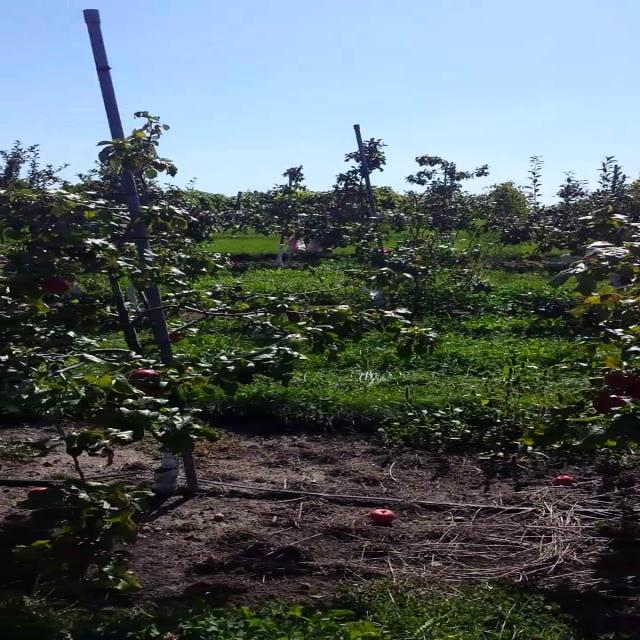apple: (592, 393, 628, 415), (603, 369, 637, 389), (37, 277, 71, 295), (130, 370, 161, 386), (167, 328, 182, 343)
